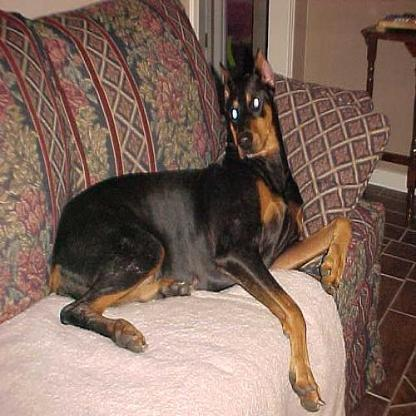Doberman: (46, 46, 352, 413)
